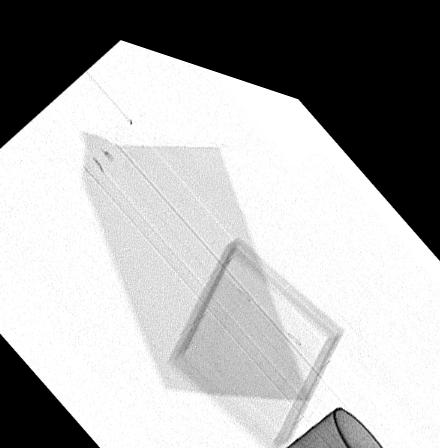Sprayer: (262, 383, 396, 448)
